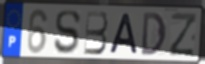6: (26, 8, 51, 56)
A: (108, 12, 140, 55)
B: (82, 9, 109, 56)
D: (141, 11, 168, 57)
S: (53, 8, 82, 55)
Z: (167, 11, 198, 58)
